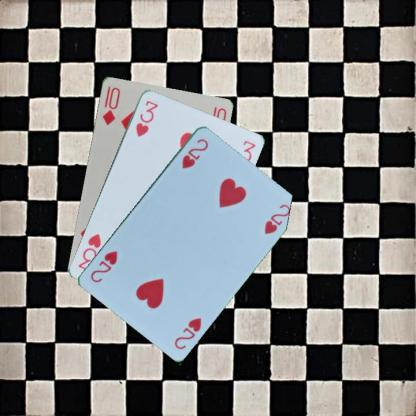10d: (100, 83, 122, 126)
2h: (172, 314, 202, 351), (179, 135, 210, 170)
3h: (133, 97, 159, 138)
